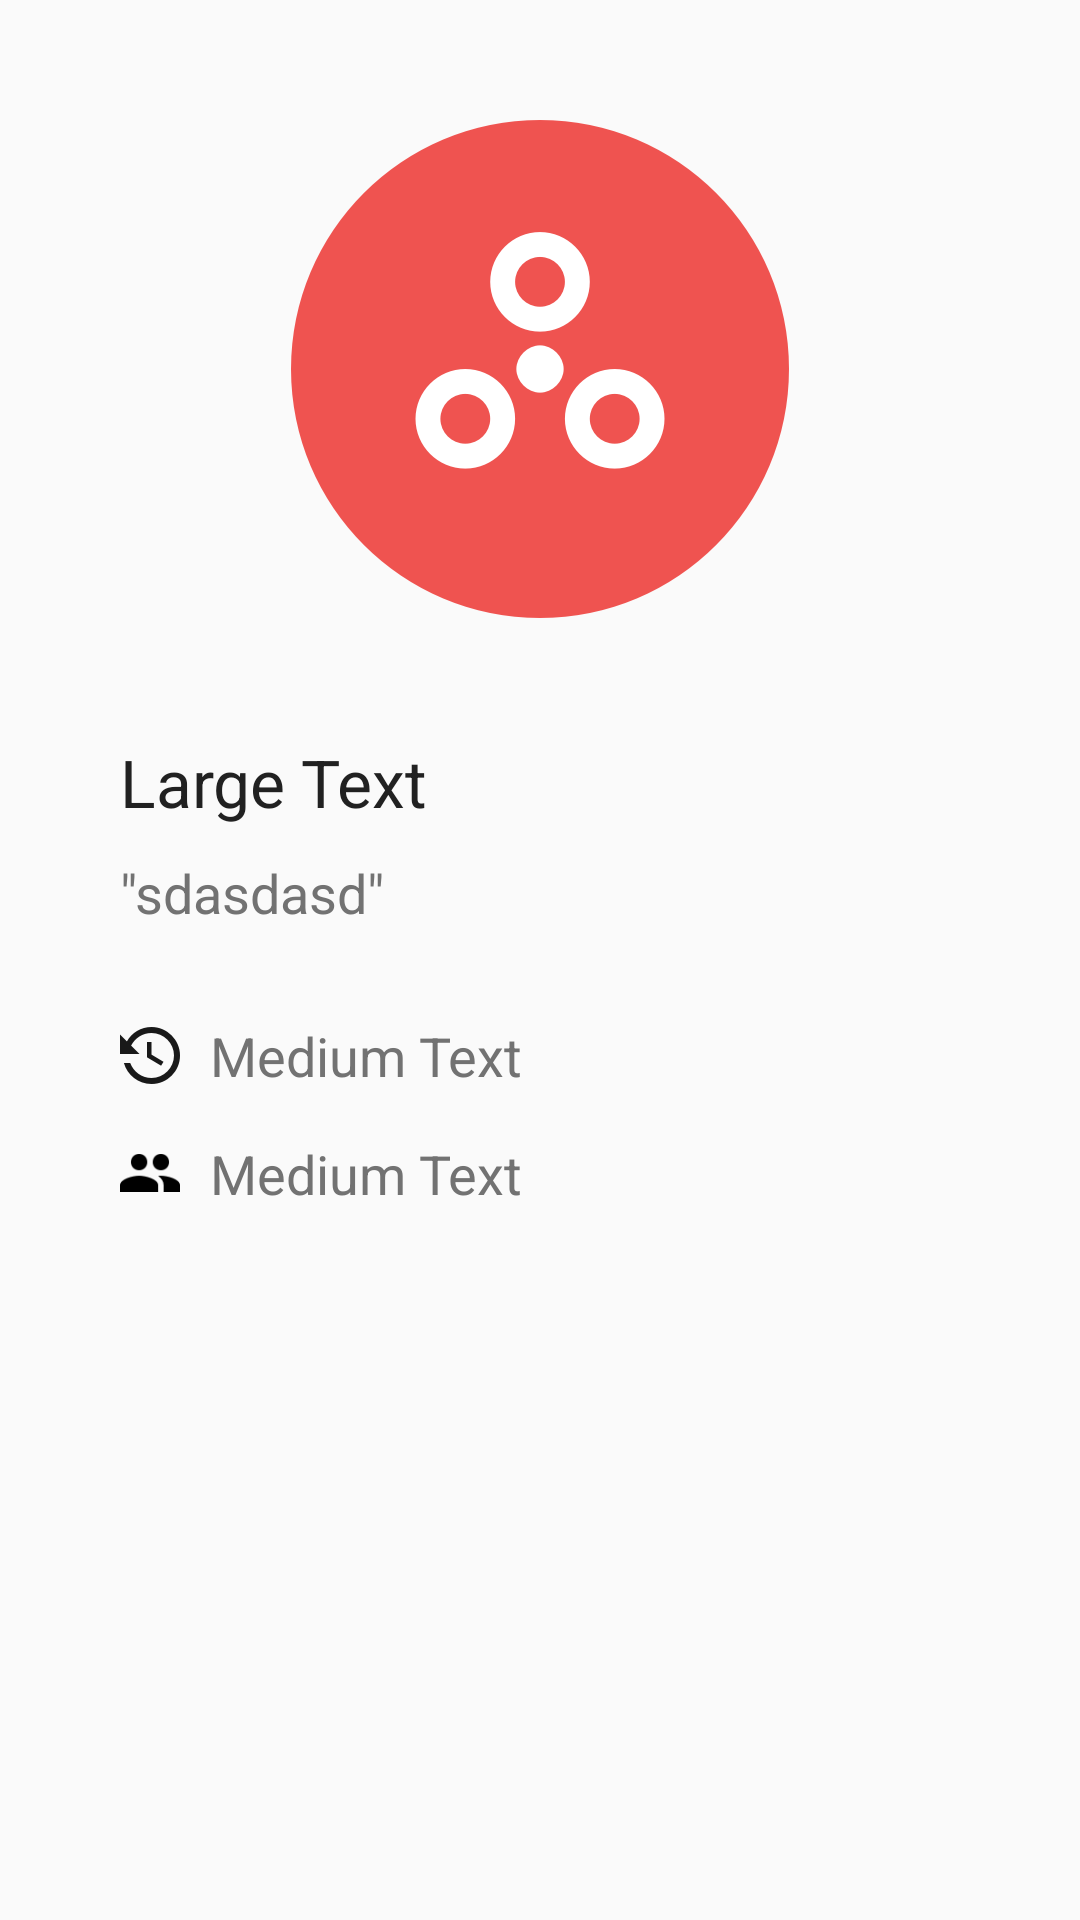

Icons on this 1080×1920 Android screen, each with the point to tap as [x,y]:
duration: [150,1055]
